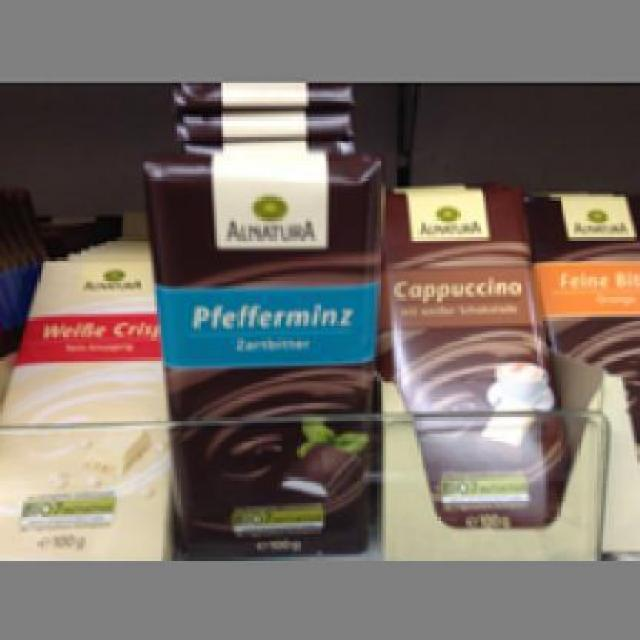Chocolate bar: (140, 148, 380, 548), (374, 183, 557, 526), (1, 257, 160, 557), (534, 188, 637, 428)
